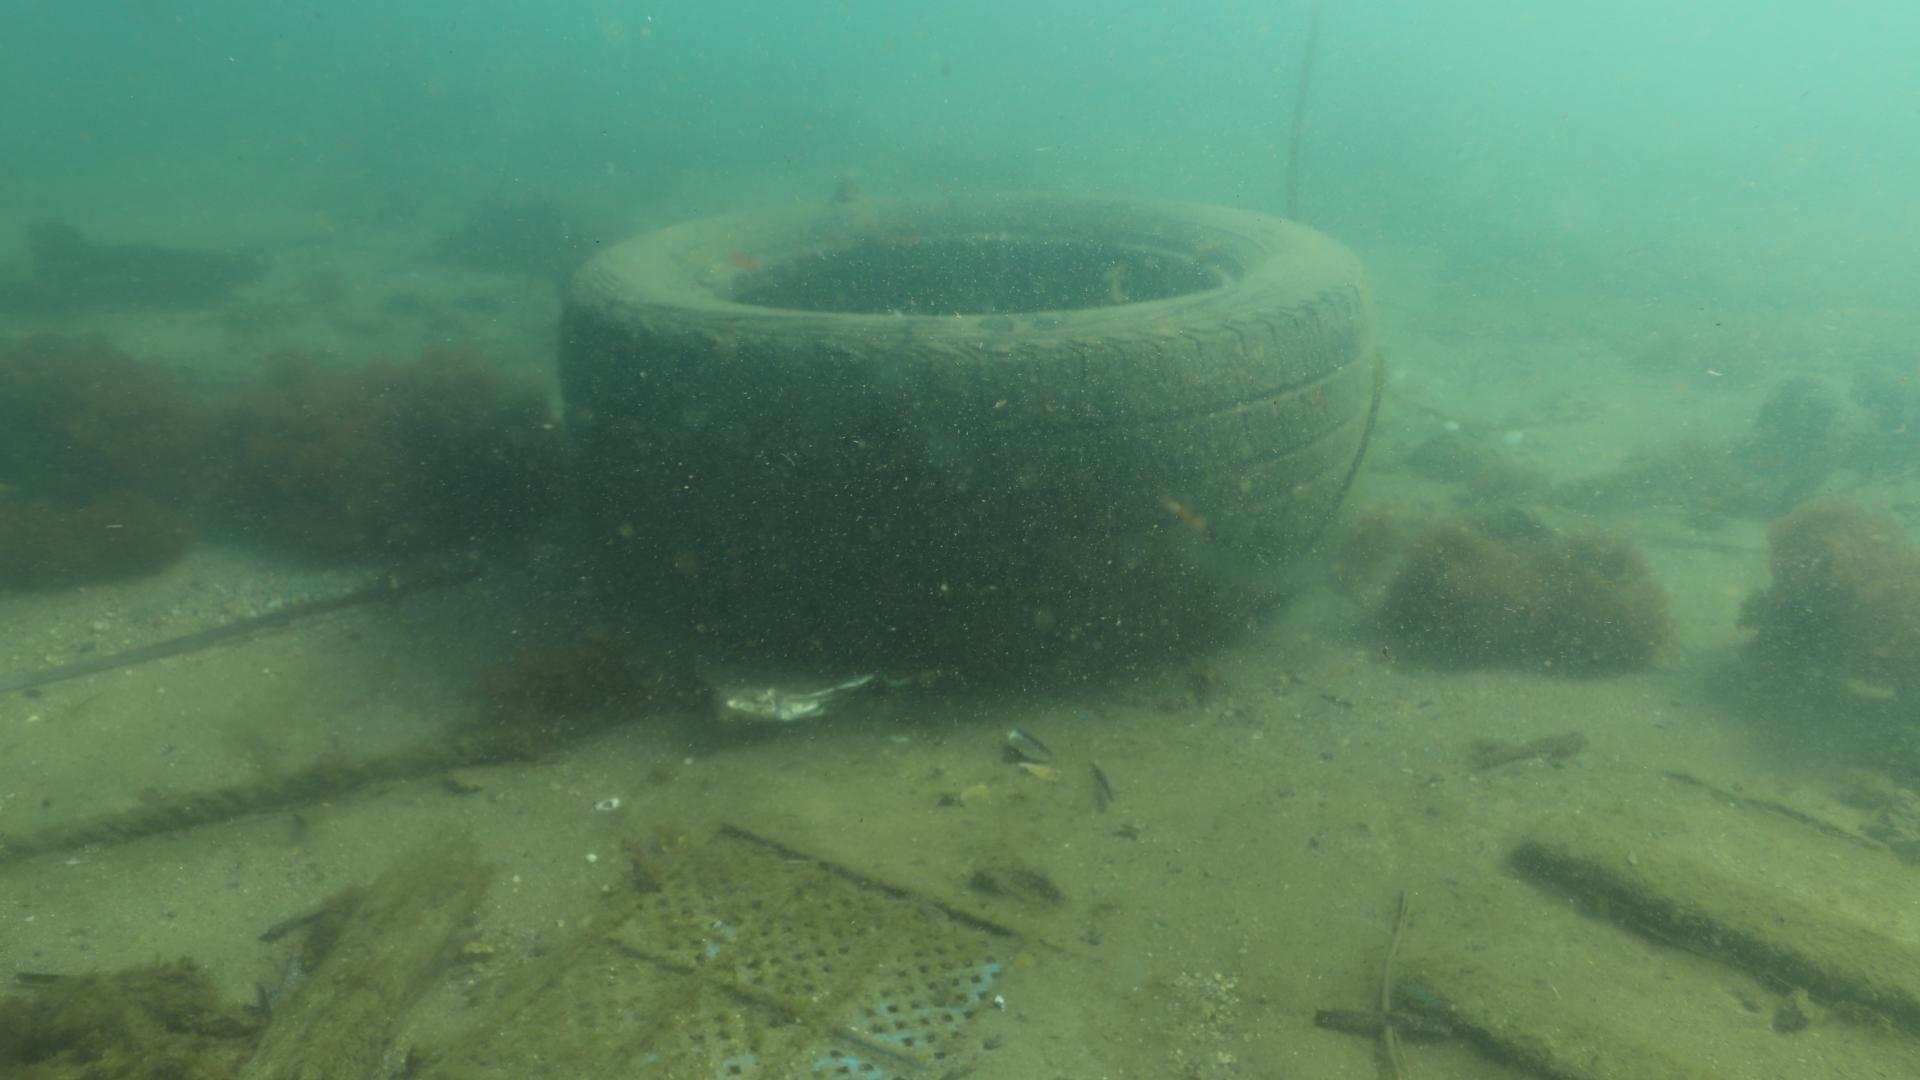rope: (0, 667, 687, 873)
tire: (558, 189, 1378, 688)
